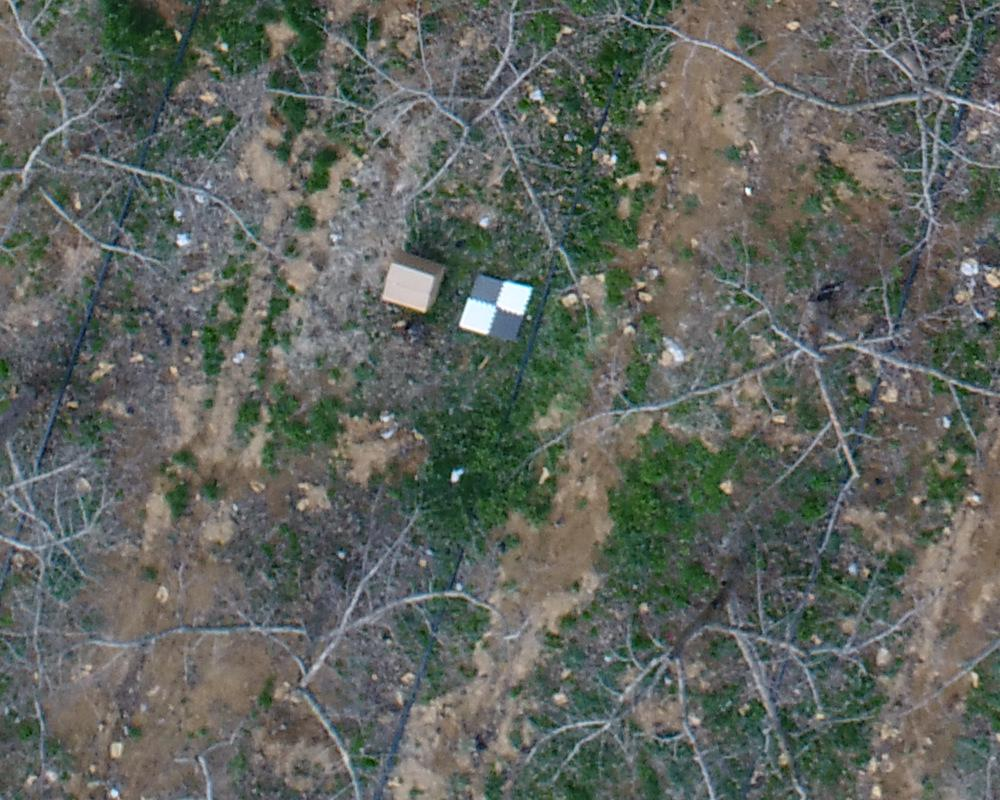apple: (539, 224, 990, 549), (10, 503, 502, 790), (269, 10, 627, 347), (519, 542, 938, 790), (607, 10, 990, 273), (10, 10, 288, 280)
